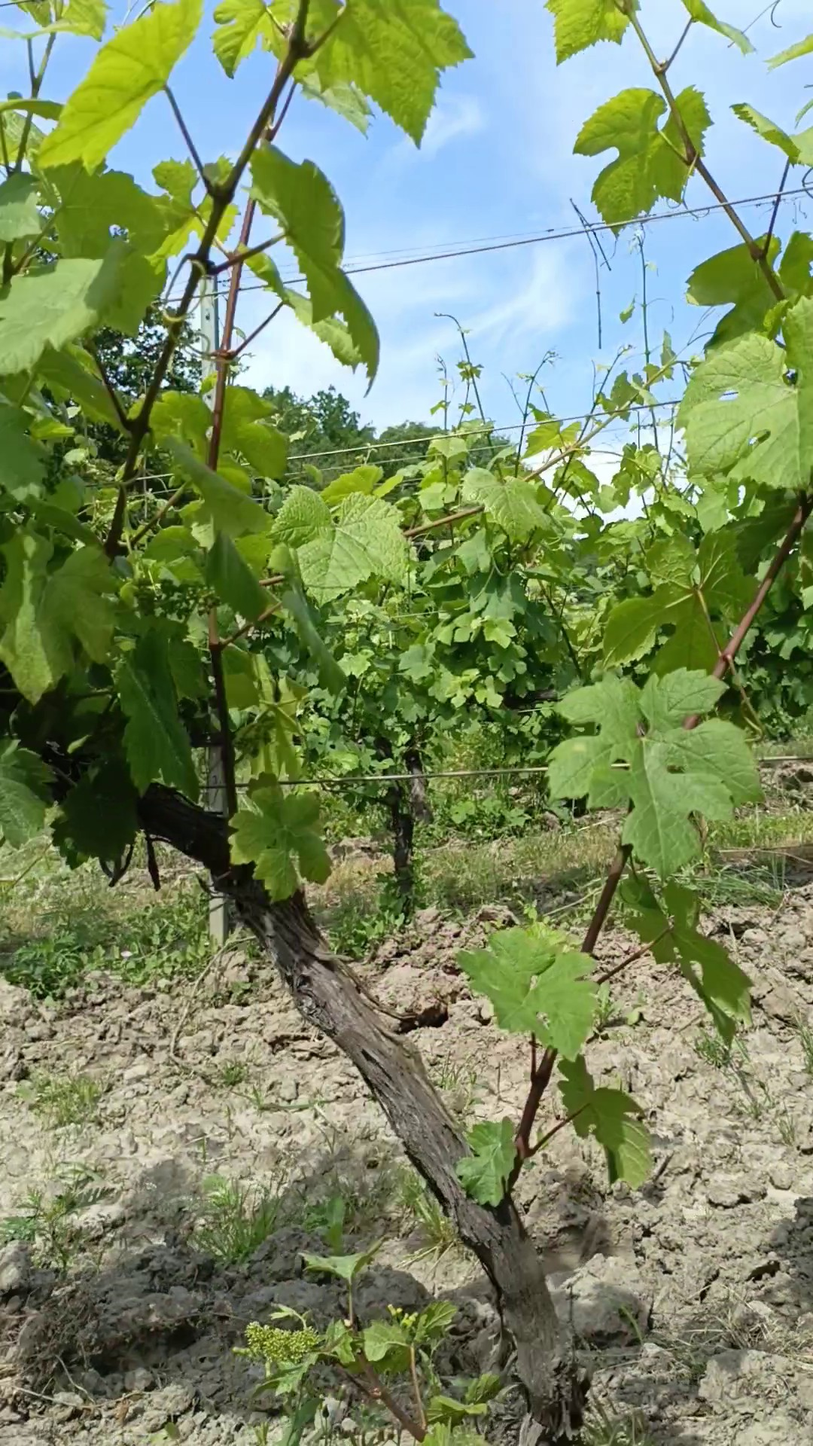vine_trunk: (141, 786, 558, 1420)
